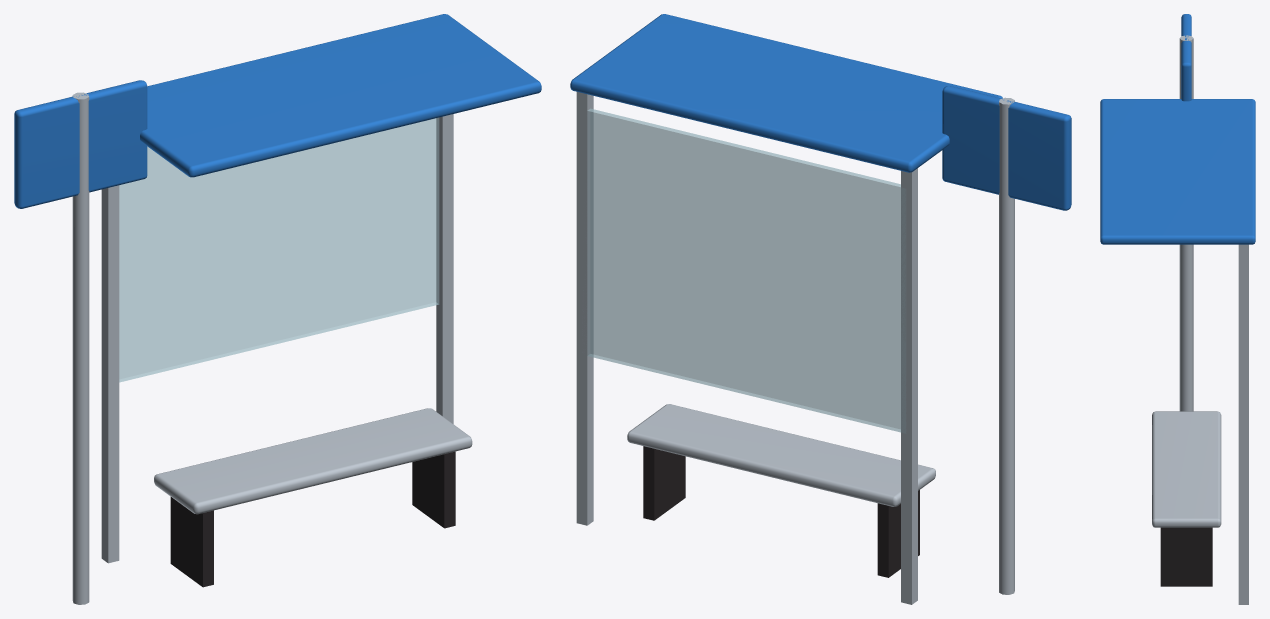
Rendered from bus_stop.glb.
The picture shows the model from 3 angles, left to right: view 1: azimuth 30°, elevation 25°; view 2: azimuth 150°, elevation 25°; view 3: azimuth 270°, elevation 25°; orthographic projection. The views are drawn at different scales.
Parts seen in each view (by area): view 1: Back, Roof, Bench, Sign, Pole, RPole, RPole.001, BLeg, BLeg.001; view 2: Back, Roof, Bench, Sign, RPole.001, Pole, RPole, BLeg.001, BLeg; view 3: Roof, Bench, RPole.001, BLeg.001, Pole, Sign.
Boxes of the visible parts, x1,y1,x2,y2 form: Back: (119, 118, 439, 382); Roof: (140, 14, 541, 177); Bench: (154, 408, 472, 514); Sign: (14, 80, 147, 208); Pole: (72, 92, 89, 604); RPole: (101, 185, 119, 563); RPole.001: (436, 114, 453, 423); BLeg: (170, 497, 213, 587); BLeg.001: (412, 451, 455, 528); Back: (582, 108, 906, 433); Roof: (570, 14, 1002, 172); Bench: (627, 404, 935, 506); Sign: (942, 86, 1071, 210); RPole.001: (576, 92, 593, 525); Pole: (999, 97, 1014, 594); RPole: (901, 168, 917, 604); BLeg.001: (643, 446, 685, 520); BLeg: (877, 490, 919, 577); Roof: (1100, 99, 1255, 244); Bench: (1152, 411, 1221, 527); RPole.001: (1238, 244, 1248, 604); BLeg.001: (1160, 527, 1212, 586); Pole: (1179, 35, 1193, 411); Sign: (1181, 14, 1191, 101).
Size of the model in its own units: 2.55 by 2.6 by 0.9.
